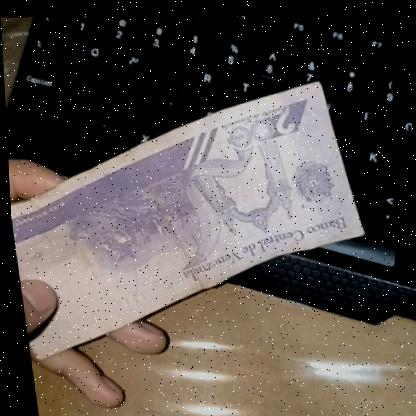vef_back: (2, 56, 383, 375)
